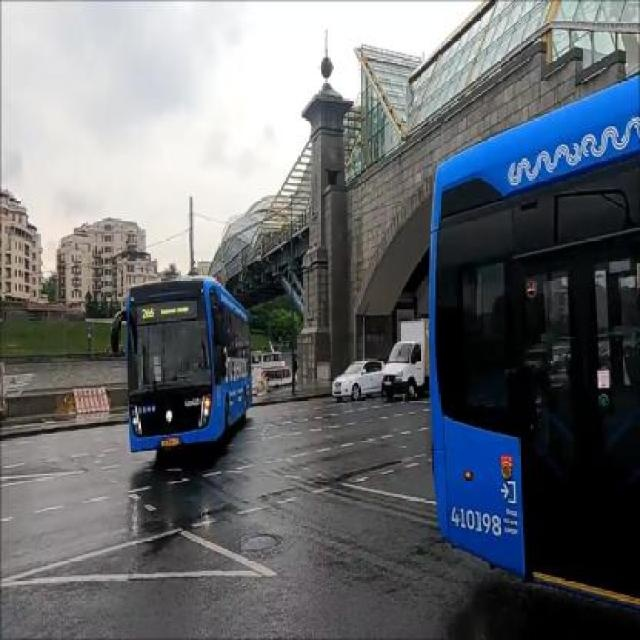Bus: (121, 276, 253, 469)
